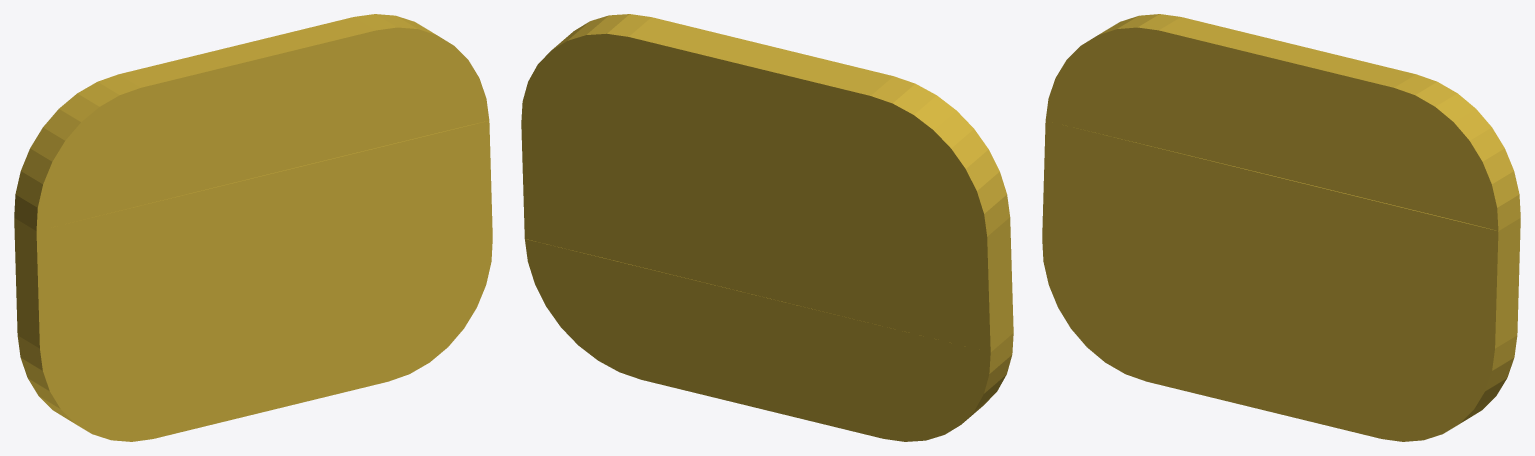
File: roundRectangle.fbx
3 renders of one model, left to right at view 1: azimuth 30°, elevation 25°; view 2: azimuth 150°, elevation 25°; view 3: azimuth 330°, elevation 25°, orthographic. The views are drawn at different scales.
Visible parts, largest first — view 1: Circle; view 2: Circle; view 3: Circle.
Boxes of the visible parts, x1,y1,x2,y2 form: Circle: (14, 14, 492, 441); Circle: (521, 14, 1013, 441); Circle: (1042, 14, 1520, 441).
Bounding box in the file's own units: 416 × 303 × 55.11.
